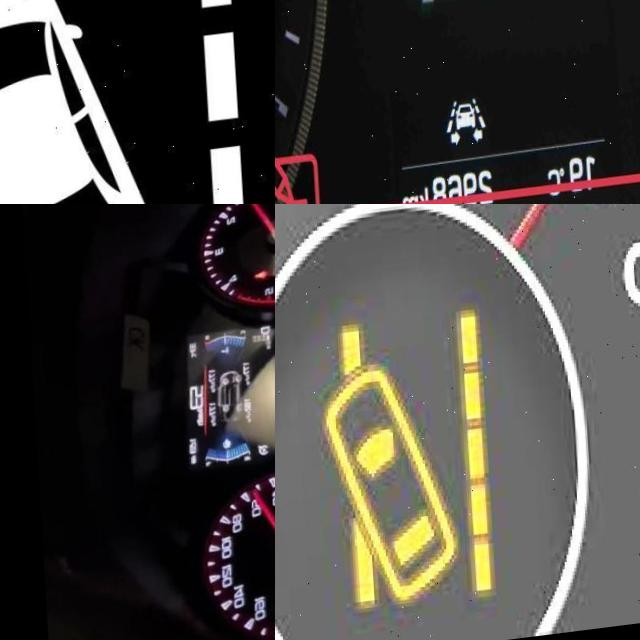Seat Belt: (251, 277, 265, 288)
